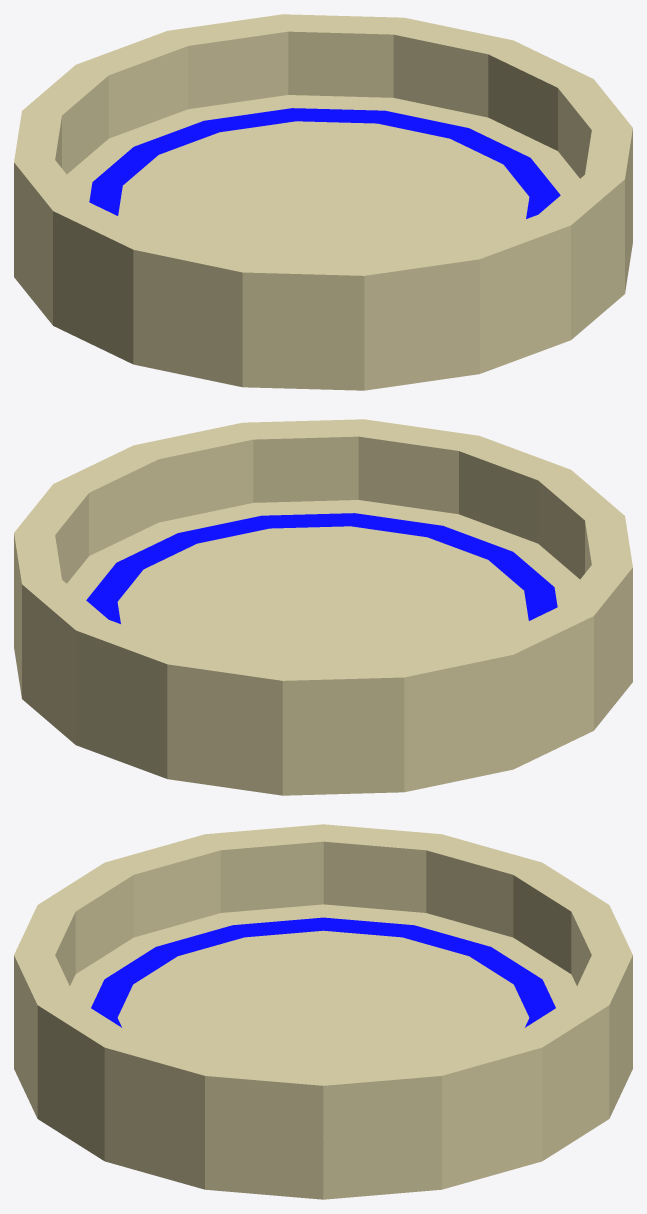
File: Platform.glb
3 renders of one model, top to bottom at view 1: azimuth 30°, elevation 25°; view 2: azimuth 150°, elevation 25°; view 3: azimuth 270°, elevation 25°, orthographic.
Parts seen in each view (by area): view 1: Platform; view 2: Platform; view 3: Platform.
Boxes of the visible parts, x1=… form: Platform: x1=14, y1=14, x2=632, y2=390; Platform: x1=14, y1=419, x2=632, y2=795; Platform: x1=14, y1=824, x2=632, y2=1199.
Size of what is drawn, in the model's own units: 1.75 by 0.3548 by 1.75.
